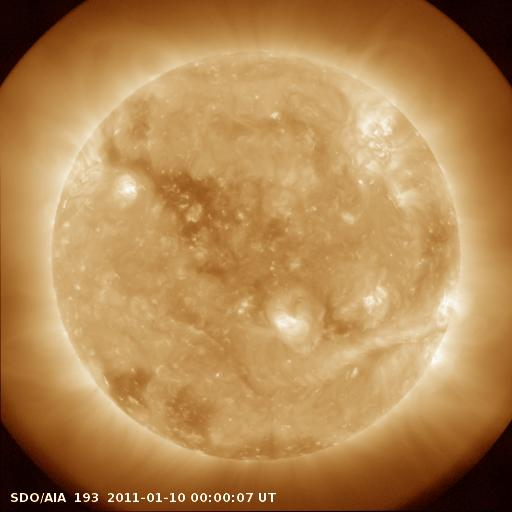coronal_hole: (124, 155, 241, 282), (166, 383, 221, 458), (98, 362, 156, 417)
